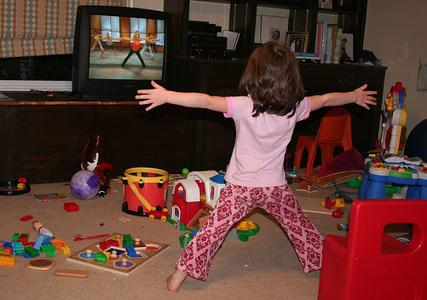person: (137, 44, 380, 293)
